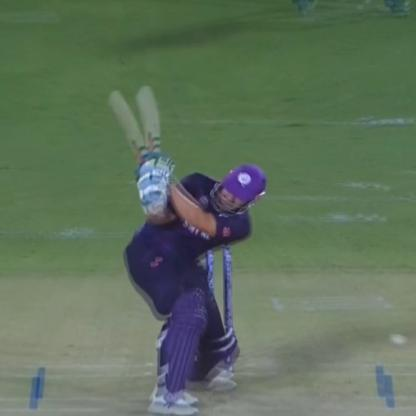ball: (385, 328, 411, 349)
bat: (97, 88, 150, 159), (132, 83, 168, 163)
